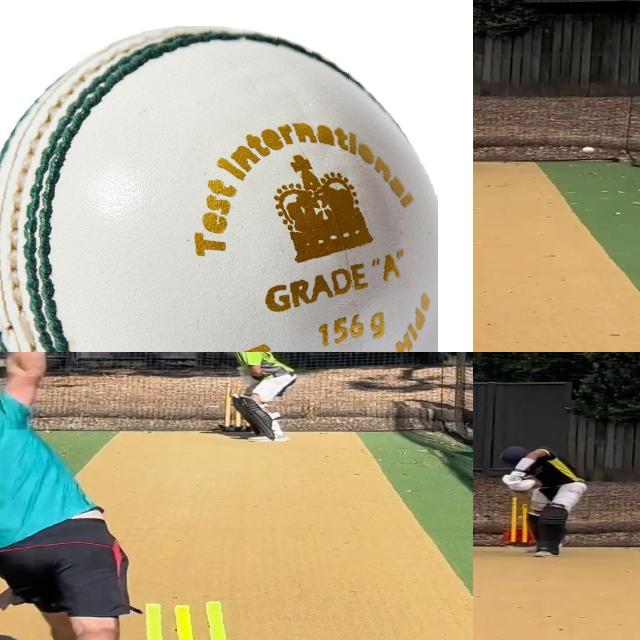Cricket ball: (0, 26, 438, 352), (582, 147, 595, 154)
Stumps: (123, 599, 248, 640)
